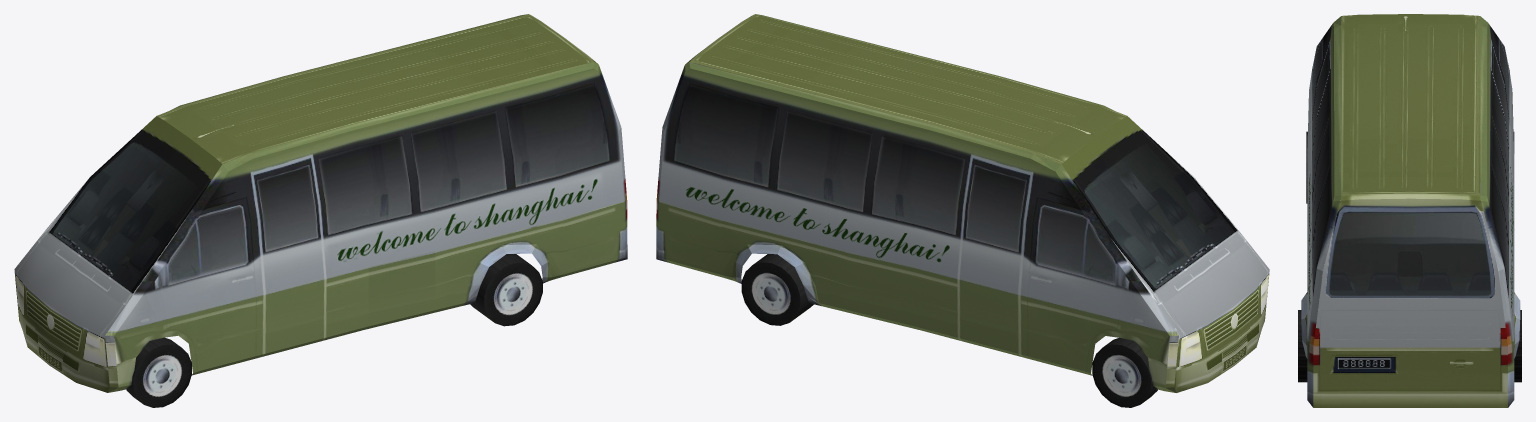
File: ltmbus-a02.FBX
3 views of the same model, side by side, from view 1: azimuth 30°, elevation 25°; view 2: azimuth 150°, elevation 25°; view 3: azimuth 270°, elevation 25° (orthographic). The views are drawn at different scales.
Parts seen in each view (by area): view 1: ltmbus-a02; view 2: ltmbus-a02; view 3: ltmbus-a02.
Part boxes in pixels (x1,y1,x2,y2): ltmbus-a02: (14,14,627,407); ltmbus-a02: (656,14,1269,407); ltmbus-a02: (1298,14,1521,407).
Bounding box in the file's own units: 6.14 × 2.12 × 2.48.
